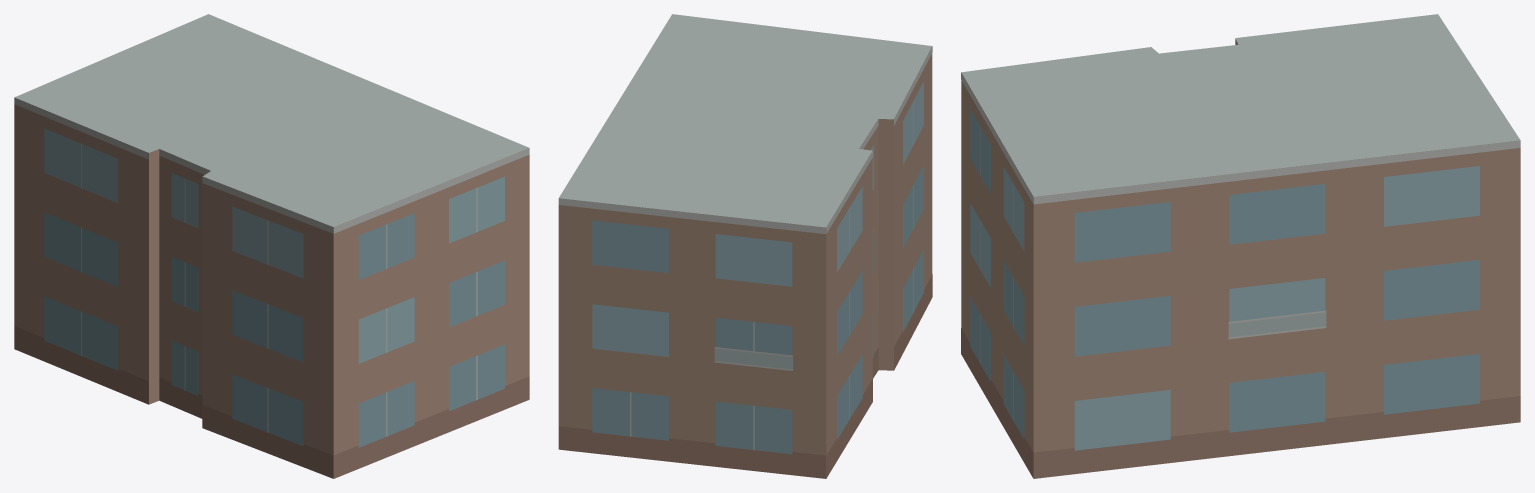
The model's file is survey-upis-32569356.glb.
3 renders of one model, left to right at view 1: azimuth 30°, elevation 25°; view 2: azimuth 150°, elevation 25°; view 3: azimuth 270°, elevation 25°, orthographic. The views are drawn at different scales.
Parts seen in each view (by area): view 1: survey-upis-32569356.tmp; view 2: survey-upis-32569356.tmp; view 3: survey-upis-32569356.tmp.
Boxes of the visible parts, box(x1,y1,x2,y2) form: survey-upis-32569356.tmp: box(14, 14, 529, 478); survey-upis-32569356.tmp: box(558, 14, 932, 478); survey-upis-32569356.tmp: box(961, 14, 1520, 478).
Size of the model in its own units: 12.75 by 9.15 by 16.47.
